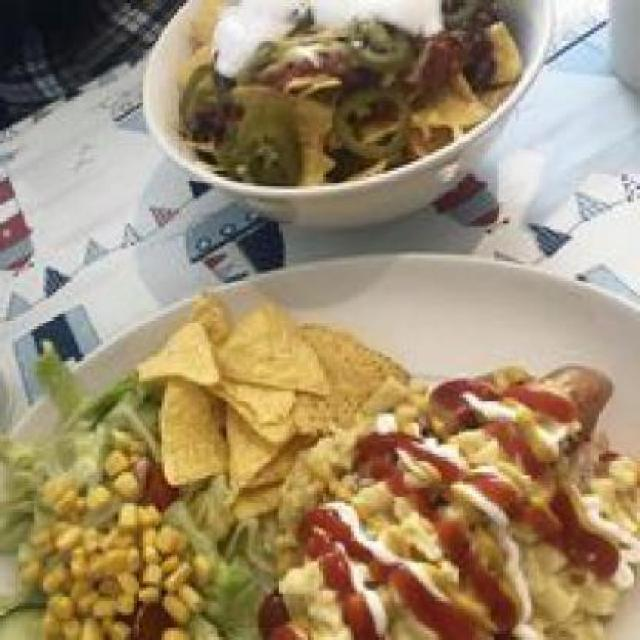hot dog: (534, 355, 628, 407), (265, 578, 320, 638)
nachos: (153, 283, 425, 522)
